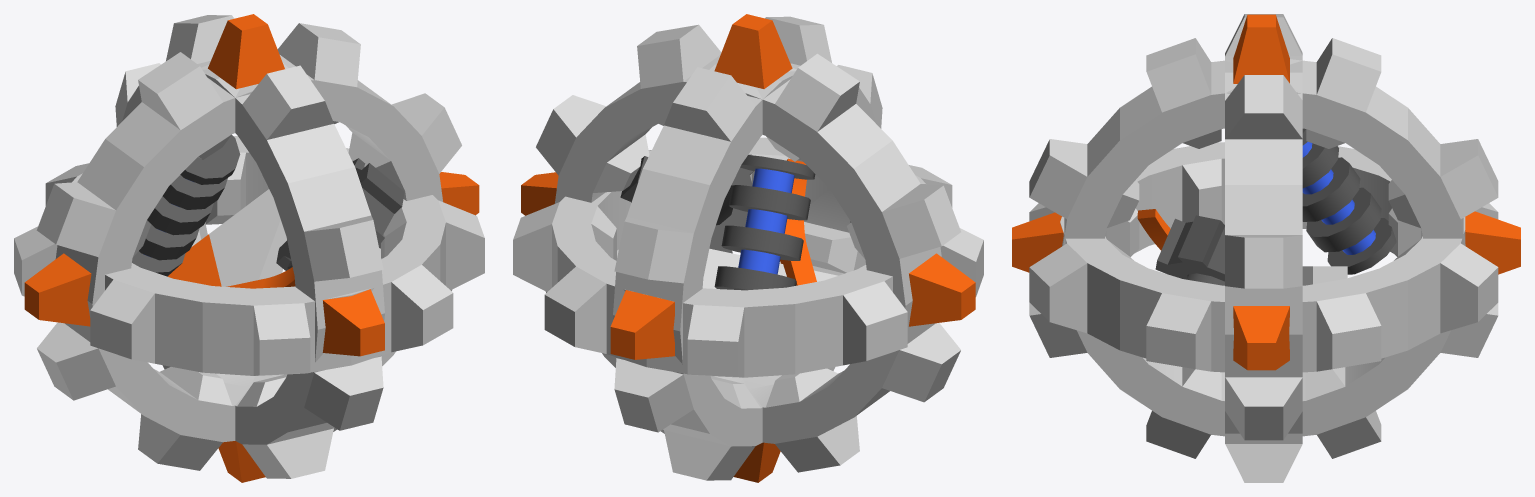
The model's file is ScrapeMetalLargeProjectile.fbx.
3 views of the same model, side by side, from view 1: azimuth 30°, elevation 25°; view 2: azimuth 150°, elevation 25°; view 3: azimuth 270°, elevation 25° (orthographic).
Parts seen in each view (by area): view 1: mergedBlocks; view 2: mergedBlocks; view 3: mergedBlocks.
Boxes of the visible parts, x1=… form: mergedBlocks: x1=14, y1=14, x2=484, y2=482; mergedBlocks: x1=513, y1=14, x2=983, y2=482; mergedBlocks: x1=1012, y1=14, x2=1520, y2=482.
Size of the model in its own units: 5.24 by 5.14 by 5.24.
